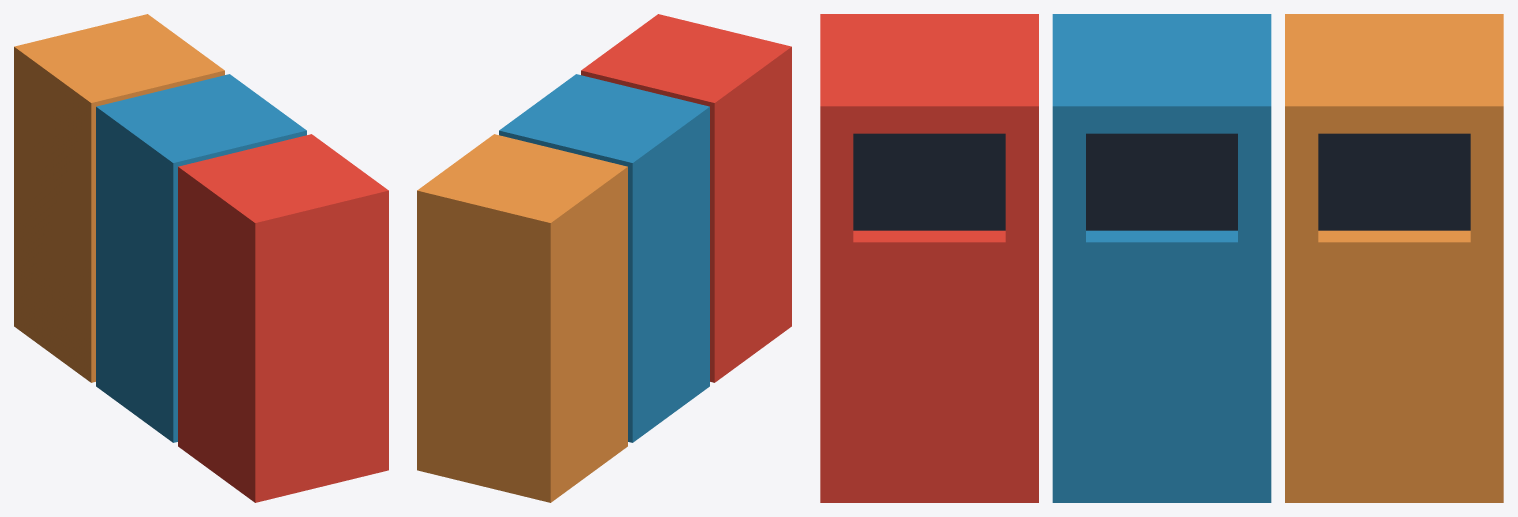
The model's file is Can.fbx.
3 views of the same model, side by side, from view 1: azimuth 30°, elevation 25°; view 2: azimuth 150°, elevation 25°; view 3: azimuth 270°, elevation 25° (orthographic). The views are drawn at different scales.
Visible parts, largest first — view 1: Metal; view 2: Metal; view 3: Metal.
Part boxes in pixels (x1,y1,x2,y2): Metal: (14, 14, 388, 502); Metal: (417, 14, 791, 502); Metal: (820, 14, 1503, 502).
Bounding box in the file's own units: 200 × 400 × 625.
